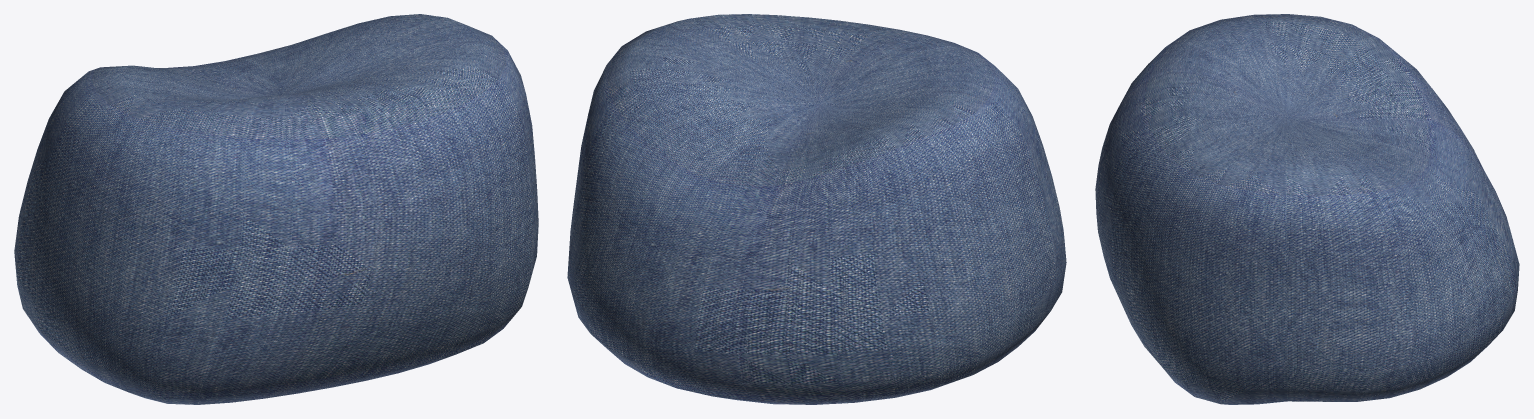
File: Bean_Bag_1_Textured.fbx
3 views of the same model, side by side, from view 1: azimuth 30°, elevation 25°; view 2: azimuth 150°, elevation 25°; view 3: azimuth 270°, elevation 25° (orthographic). The views are drawn at different scales.
Parts seen in each view (by area): view 1: nurbsToPoly1; view 2: nurbsToPoly1; view 3: nurbsToPoly1.
Part boxes in pixels (x1=…): nurbsToPoly1: x1=14, y1=14, x2=538, y2=404; nurbsToPoly1: x1=567, y1=14, x2=1066, y2=404; nurbsToPoly1: x1=1095, y1=14, x2=1519, y2=404.
Size of the model in its own units: 1.02 by 0.6255 by 0.9311.
1 material, 1 textured.
